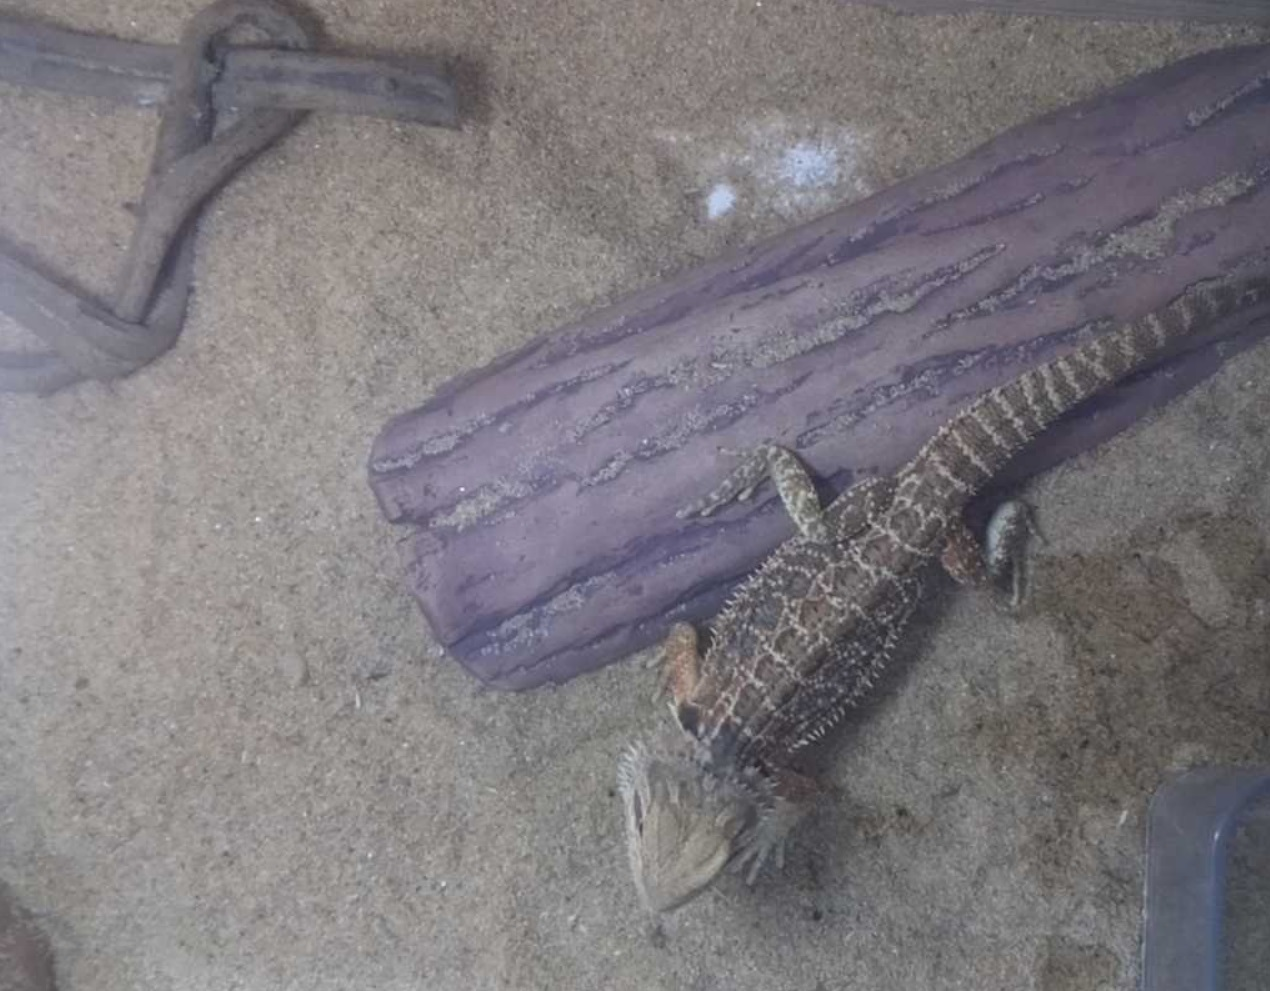bearded: (608, 270, 1270, 922)
